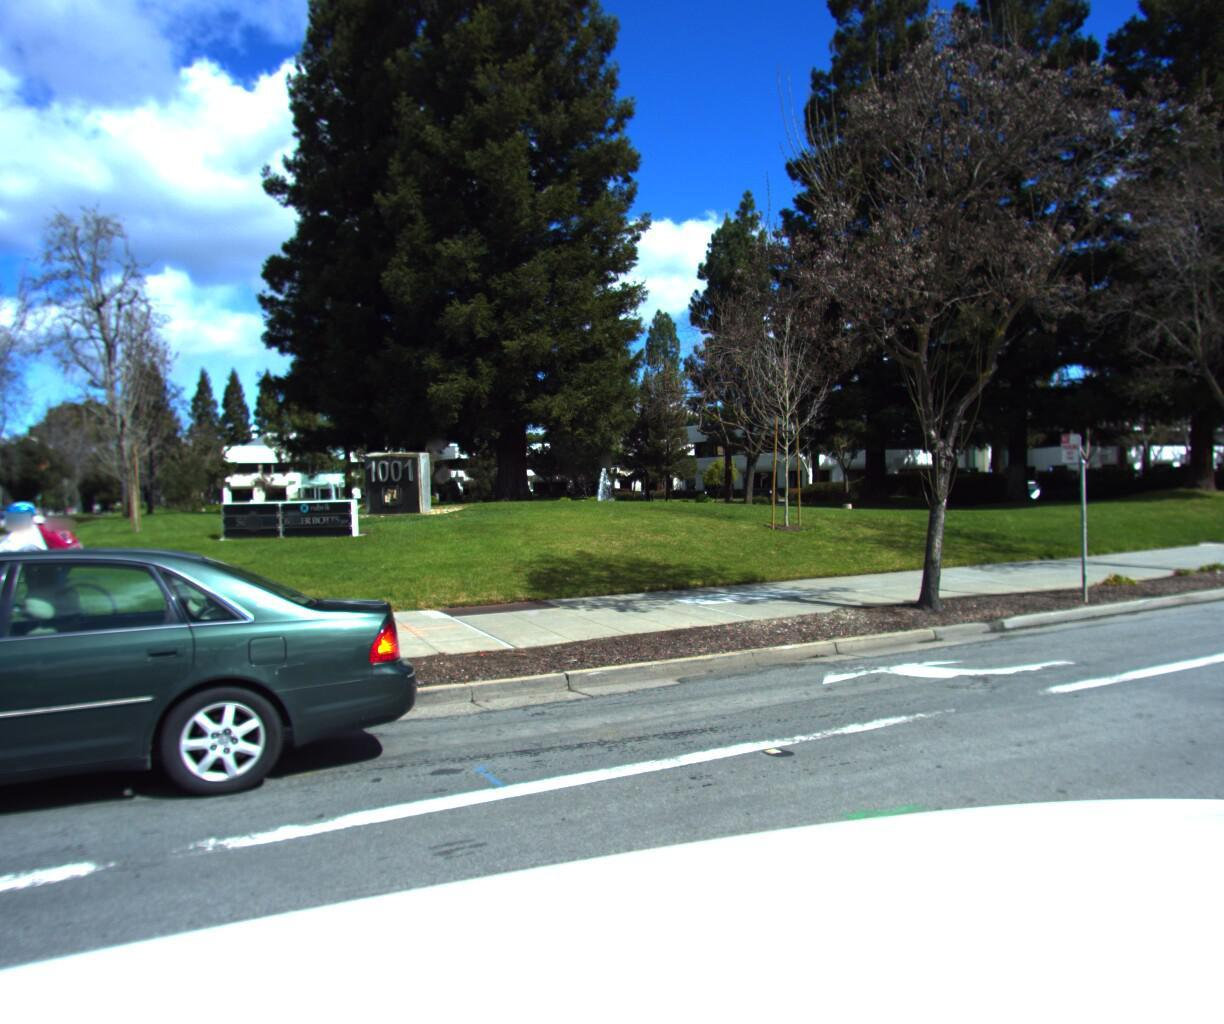bicycle: (0, 477, 112, 670)
car: (0, 532, 431, 999)
